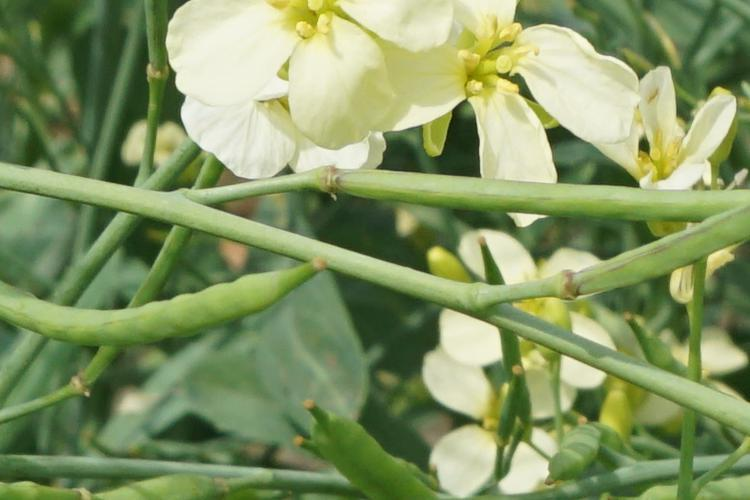pod: (75, 246, 359, 339), (303, 402, 424, 495), (525, 406, 625, 484), (466, 223, 522, 359), (479, 361, 530, 458)
white: (385, 18, 637, 200), (418, 245, 630, 412), (191, 13, 466, 141), (633, 78, 739, 233)
